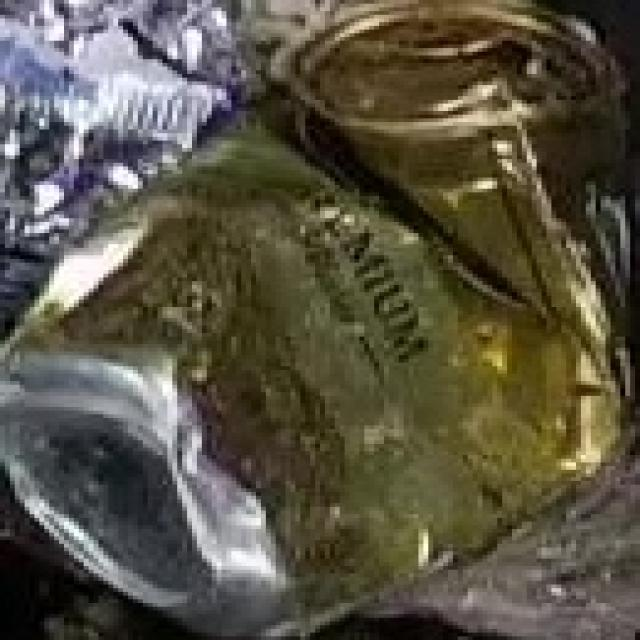can: (18, 5, 640, 622)
